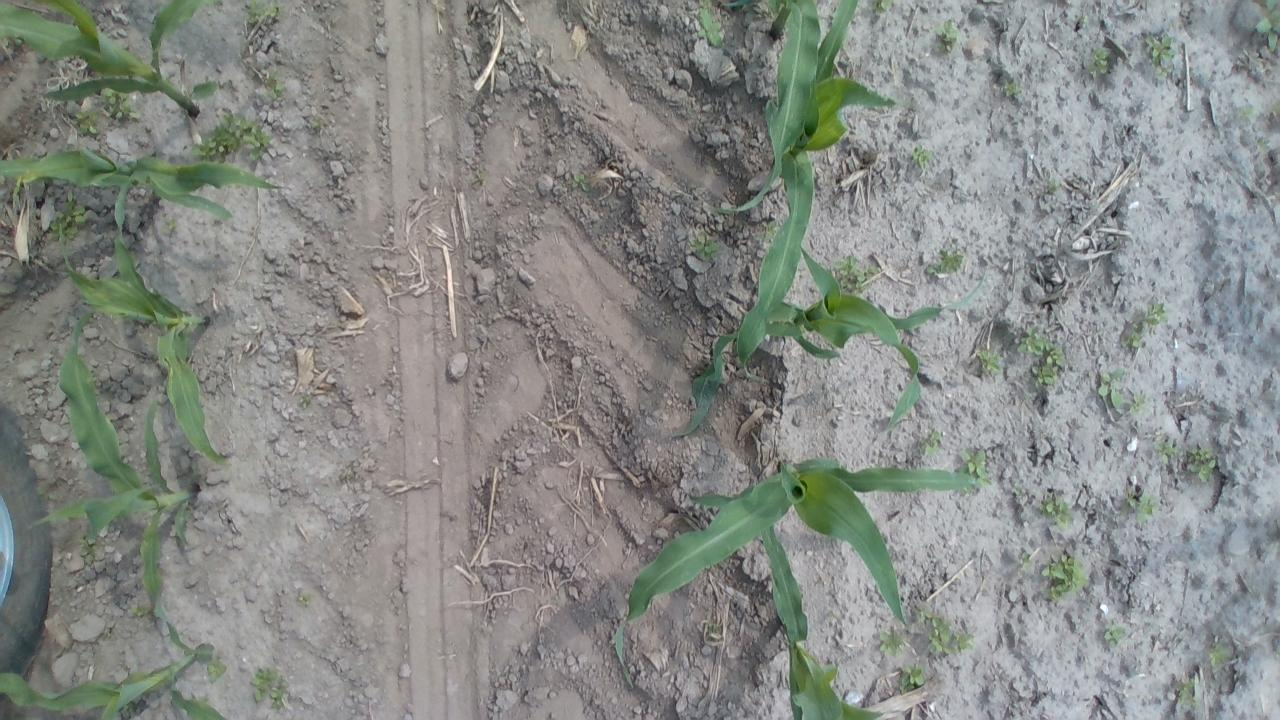Maize: (613, 456, 997, 696), (666, 243, 990, 444), (734, 0, 898, 388), (24, 311, 202, 628), (54, 222, 236, 474), (758, 501, 884, 720), (0, 3, 224, 122), (0, 150, 297, 234), (709, 2, 823, 216), (0, 629, 226, 720)
Weeds: (191, 110, 271, 166), (1036, 550, 1088, 603), (920, 606, 971, 657), (1122, 298, 1168, 352), (1020, 332, 1066, 384), (832, 252, 878, 298), (249, 664, 292, 712), (48, 196, 90, 244), (1183, 442, 1221, 486), (694, 3, 726, 51), (1096, 366, 1128, 413), (1146, 31, 1176, 76), (1123, 487, 1159, 524), (242, 1, 288, 28), (1254, 0, 1277, 52), (102, 89, 138, 122), (1038, 494, 1075, 526), (929, 248, 966, 278), (1174, 672, 1203, 710), (960, 446, 990, 481), (974, 346, 1007, 376), (261, 68, 287, 106), (690, 230, 720, 262), (933, 18, 960, 52), (73, 110, 105, 138), (896, 664, 929, 691), (874, 626, 904, 655), (74, 536, 102, 567), (906, 142, 933, 172), (1204, 644, 1230, 675), (1128, 391, 1156, 419), (1154, 434, 1180, 464), (916, 428, 944, 455), (1087, 47, 1113, 76), (1100, 623, 1128, 648), (204, 656, 228, 684), (570, 170, 594, 194), (998, 76, 1024, 98), (1042, 176, 1066, 198), (308, 114, 329, 134), (1236, 101, 1254, 124), (871, 0, 896, 16), (470, 167, 490, 187), (296, 389, 315, 410), (294, 590, 315, 609), (1018, 550, 1034, 574), (130, 602, 152, 619), (163, 216, 183, 234), (1074, 12, 1090, 28)
